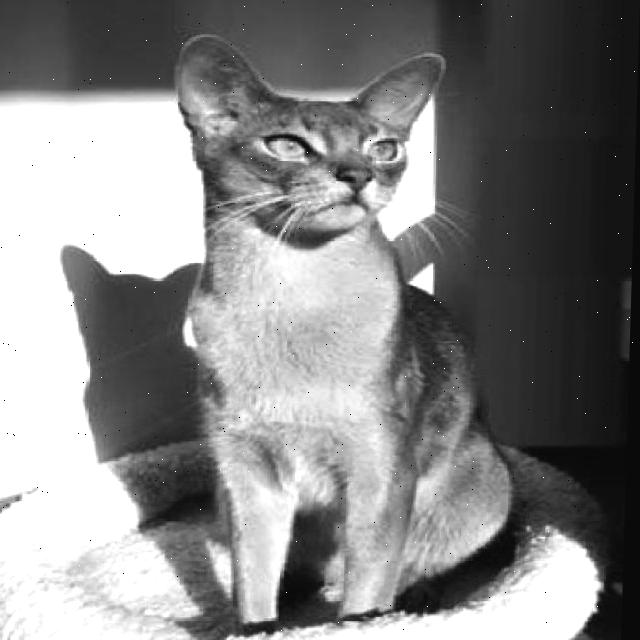Cat: (156, 30, 530, 636)
